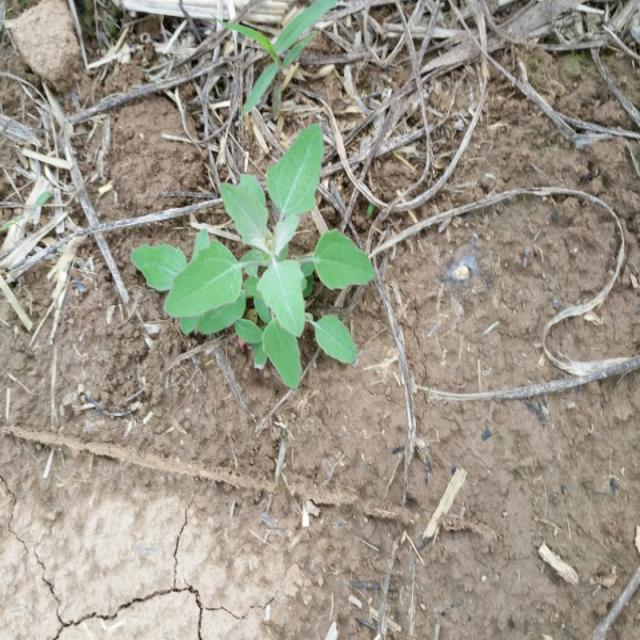goosefoots: (144, 131, 389, 387)
